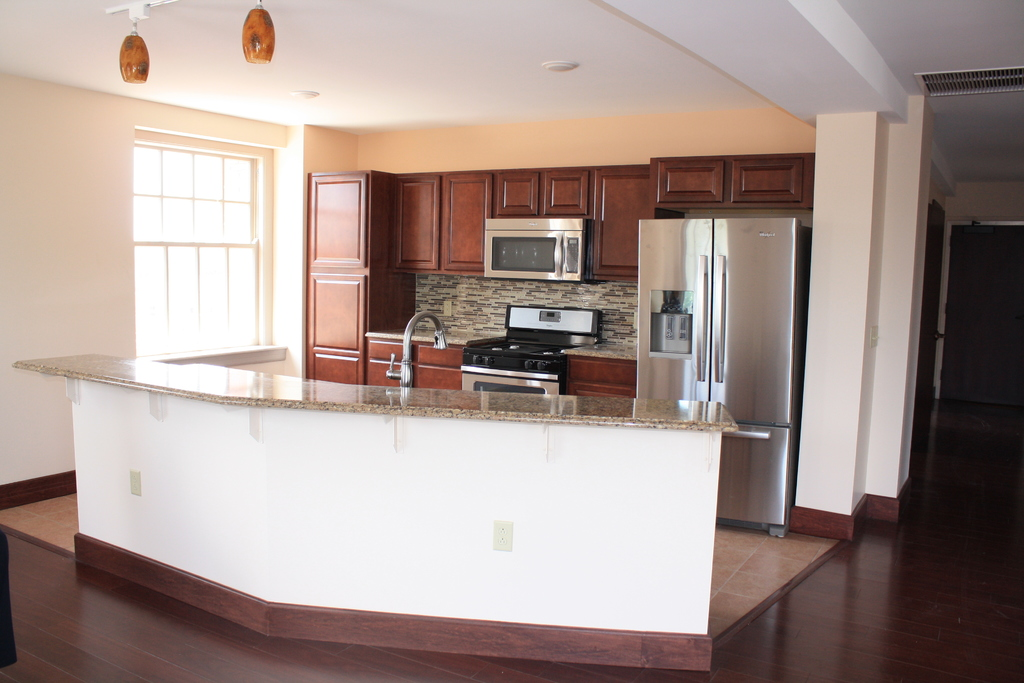cabinet door: (305, 177, 369, 264), (594, 175, 641, 272), (440, 175, 486, 268), (393, 178, 442, 263), (311, 275, 364, 352), (654, 157, 734, 205), (731, 163, 809, 201), (539, 169, 590, 212), (493, 169, 537, 211), (307, 350, 359, 381)
handle: (712, 249, 729, 383), (694, 257, 707, 383), (723, 421, 769, 446), (551, 231, 569, 277)
refrigerator door: (711, 217, 796, 422), (643, 217, 706, 397), (723, 426, 788, 516)
